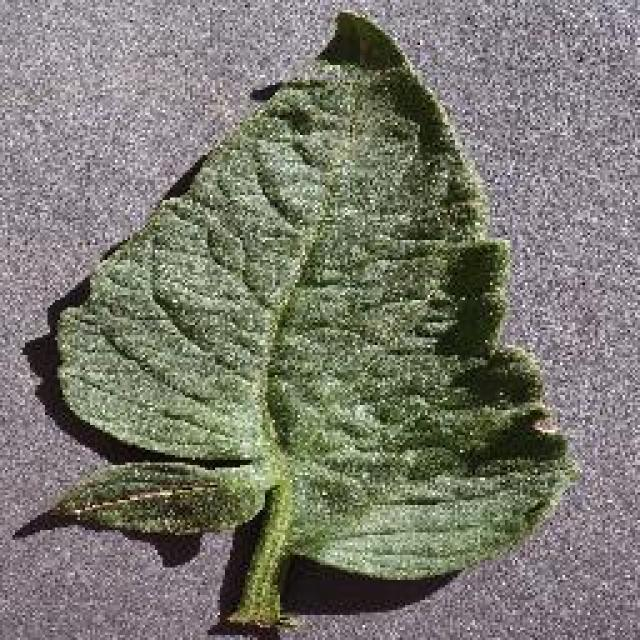Tomato_Healthy: (56, 17, 602, 617)
